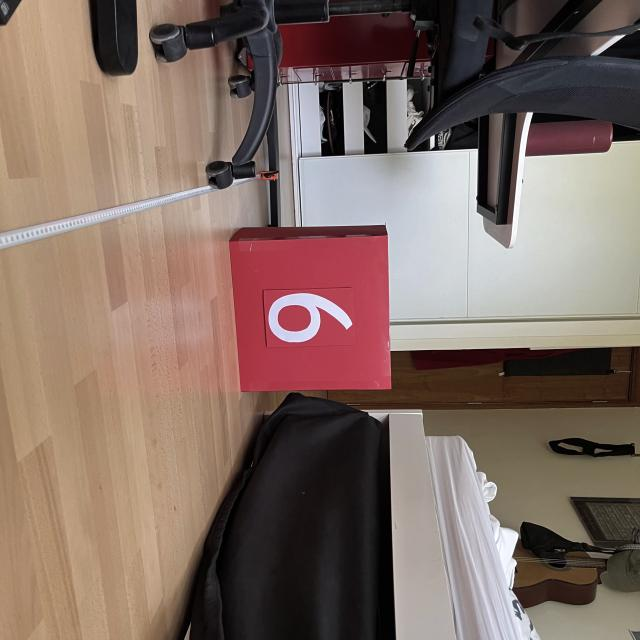box: (224, 221, 396, 393)
